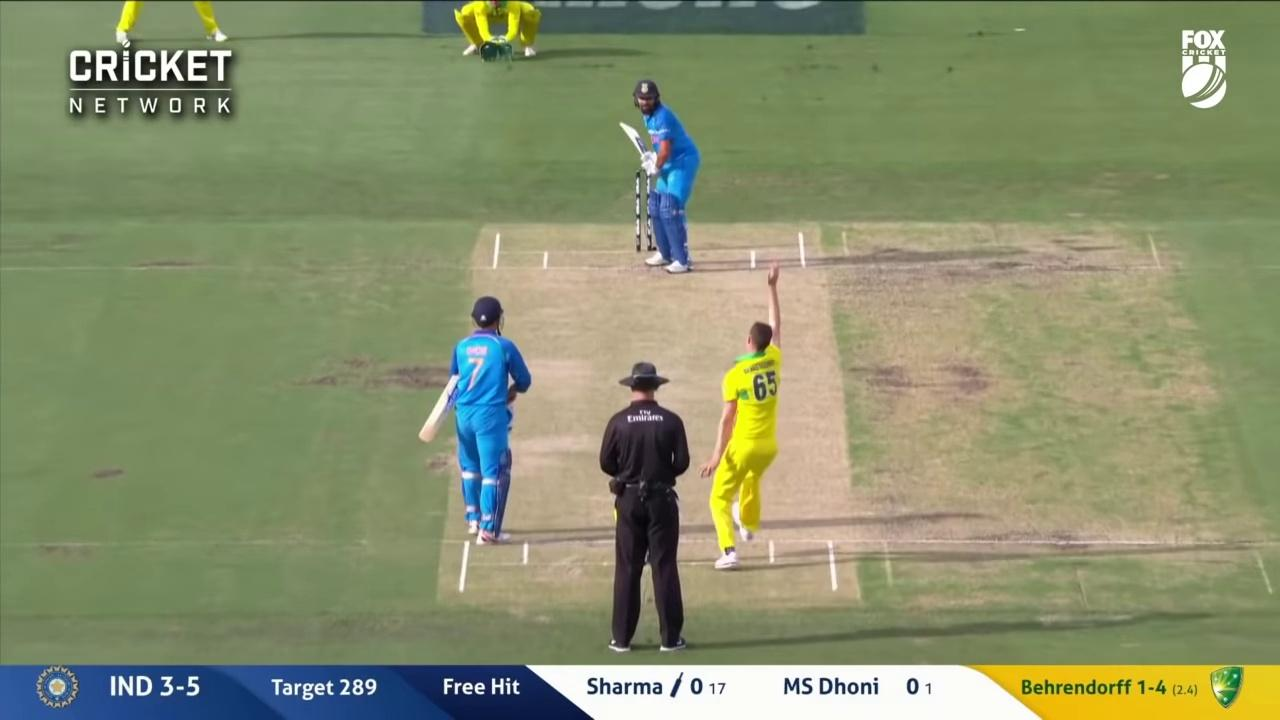batsman: (619, 79, 700, 273)
